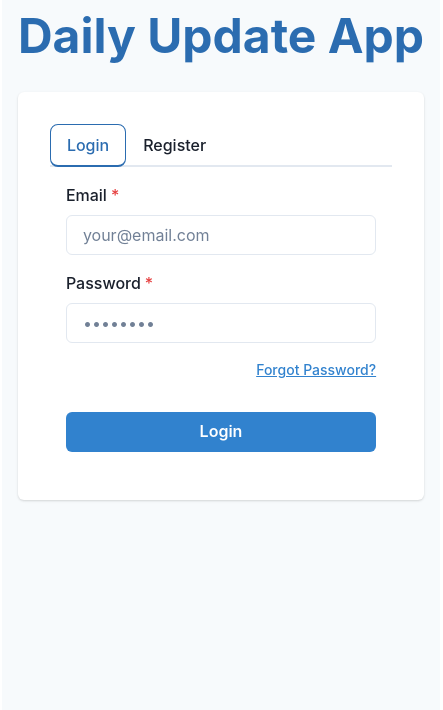
Test: Login page › submits a valid login and shows the success toast
Note: Login panel is the first tab, so its fields are the first matches.
Type "test@example.com" into the field with placeholder "your@email.com".
click(221, 235); type("test@example.com")  # box [66, 215, 376, 255]
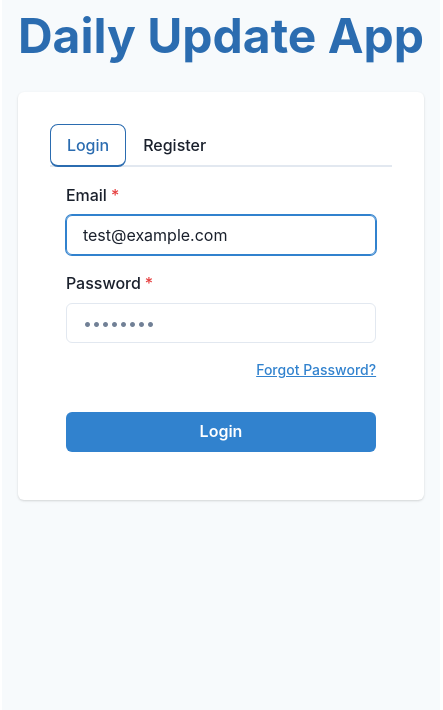
Type "password123" into the password field with placeholder "••••••••".
click(221, 323); type("password123")  # box [66, 303, 376, 343]
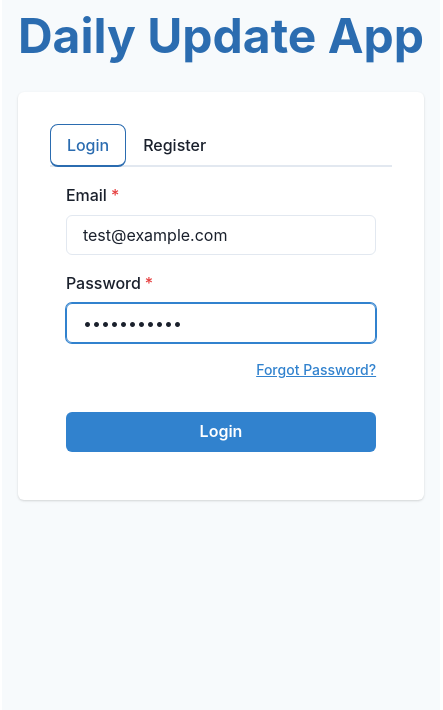
Click the button "Login".
click(221, 432)  # box [66, 412, 376, 452]
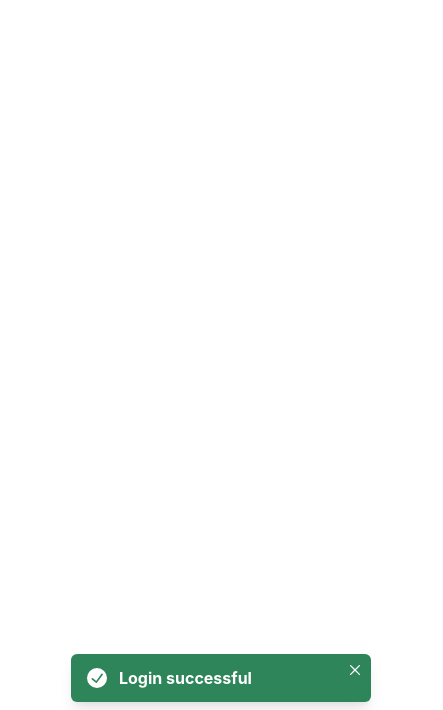
Expected: the text "Login successful" is shown, [119, 668, 252, 688]
